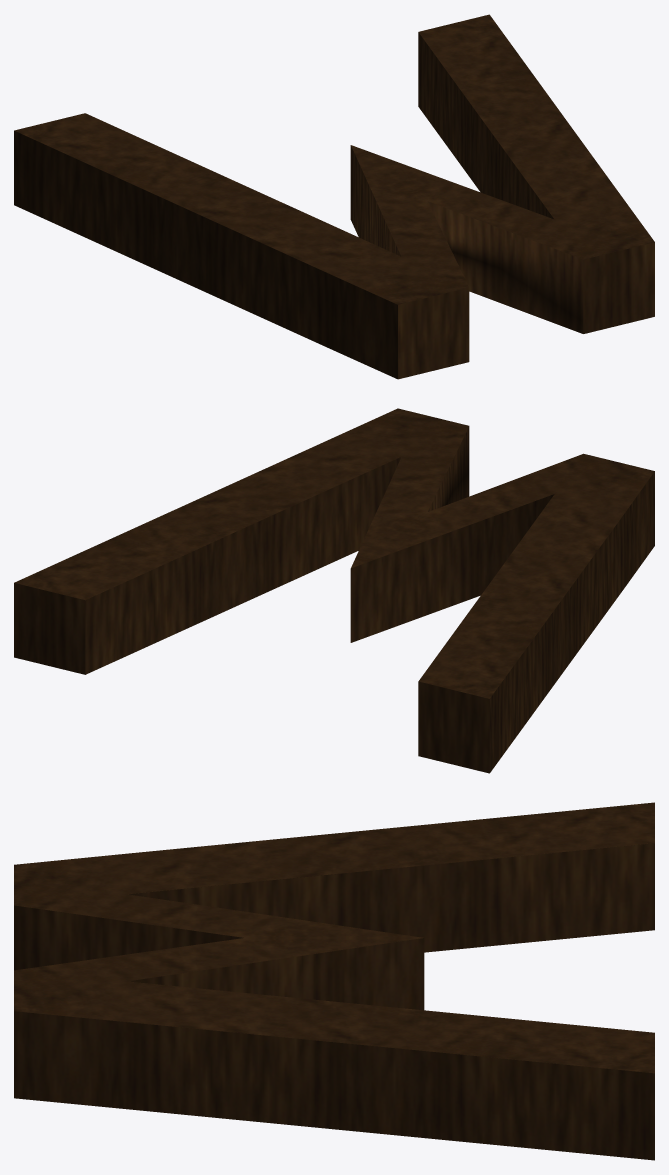
File: LetterW.obj
3 views of the same model, one above another, from view 1: azimuth 30°, elevation 25°; view 2: azimuth 150°, elevation 25°; view 3: azimuth 270°, elevation 25° (orthographic). The views are drawn at different scales.
Visible parts, largest first — view 1: LetterW; view 2: LetterW; view 3: LetterW.
Boxes of the visible parts, left/top/right/bottom form: LetterW: left=14, top=14, right=654, bottom=379; LetterW: left=14, top=408, right=654, bottom=773; LetterW: left=14, top=802, right=654, bottom=1160.
Size of the model in its own units: 1 by 0.15 by 1.
